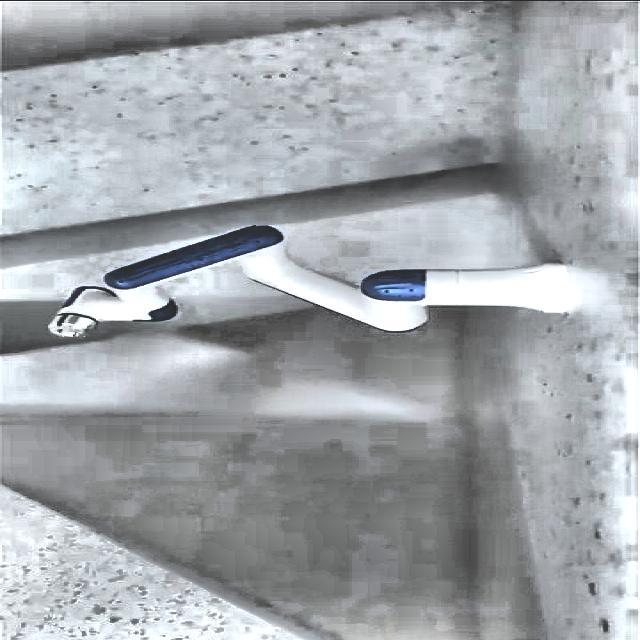robot: (44, 222, 568, 337)
